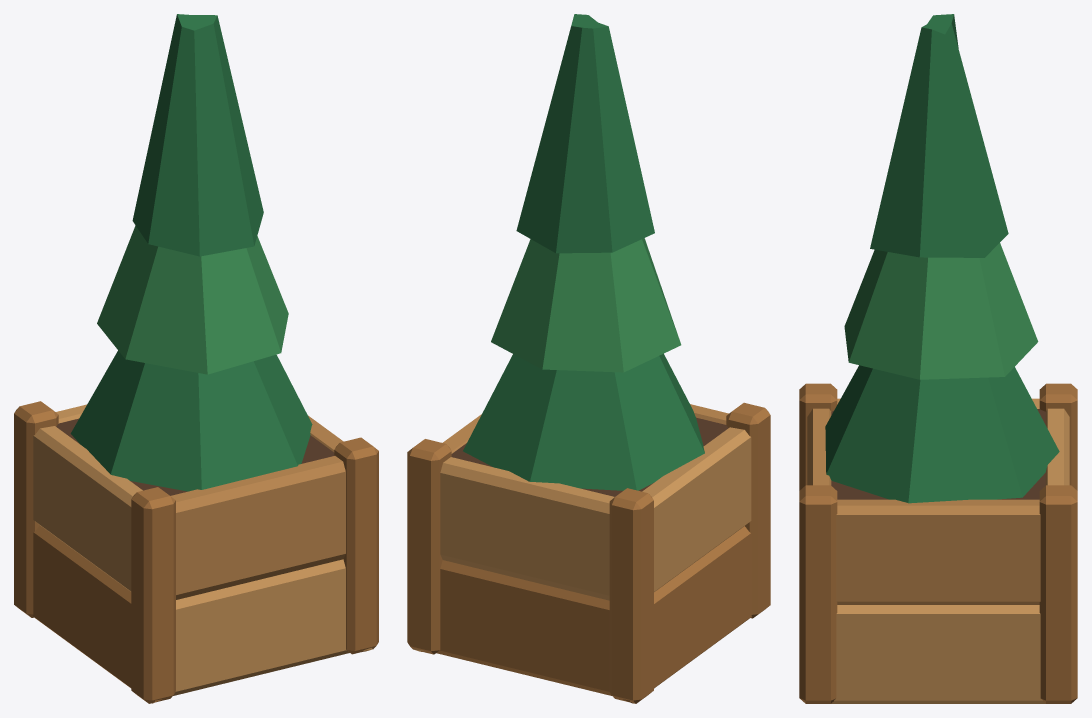
The model's file is cinema_topiary.glb.
The picture shows the model from 3 angles, left to right: view 1: azimuth 30°, elevation 25°; view 2: azimuth 150°, elevation 25°; view 3: azimuth 270°, elevation 25°; orthographic projection. The views are drawn at different scales.
Parts seen in each view (by area): view 1: cinema_topiary; view 2: cinema_topiary; view 3: cinema_topiary.
Part boxes in pixels (box(x1,y1,x2,y2)): cinema_topiary: box(14, 14, 378, 703); cinema_topiary: box(407, 14, 770, 703); cinema_topiary: box(799, 14, 1077, 703).
Bounding box in the file's own units: 0.51 × 1.27 × 0.51.
